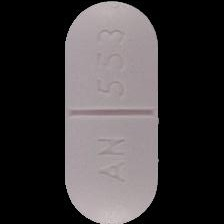65162-553: (0, 0, 224, 224)
